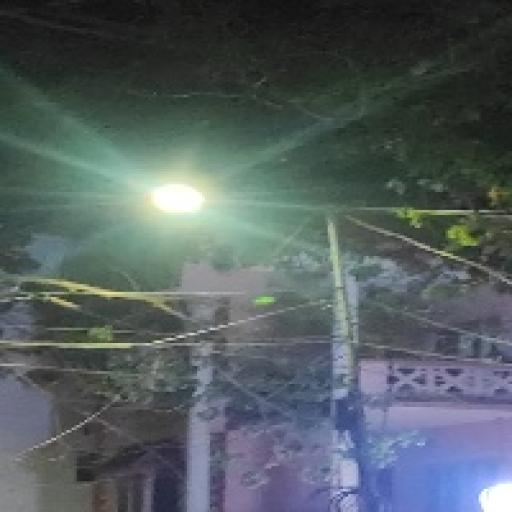Working: (134, 171, 227, 230)
